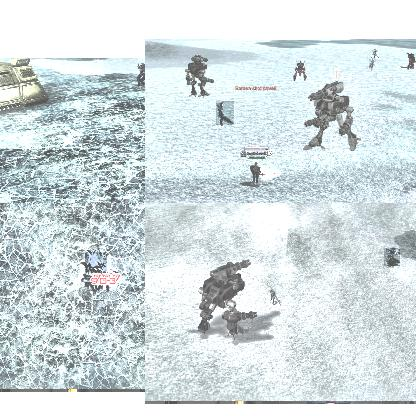caliana: (85, 252, 107, 272), (216, 101, 234, 125), (384, 248, 400, 266), (368, 58, 376, 70), (372, 48, 378, 58)
